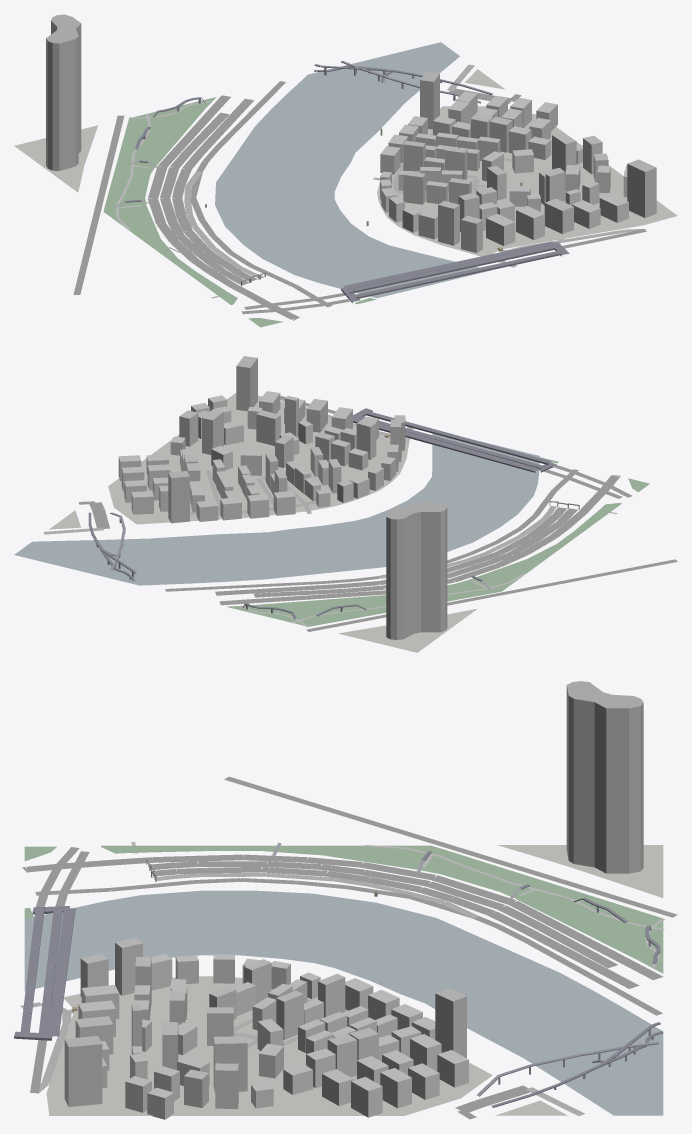
The picture shows the model from 3 angles, top to bottom: view 1: azimuth 30°, elevation 25°; view 2: azimuth 150°, elevation 25°; view 3: azimuth 270°, elevation 25°; orthographic projection. The views are drawn at different scales.
Size of the model in its own units: 634 by 146 by 520.
